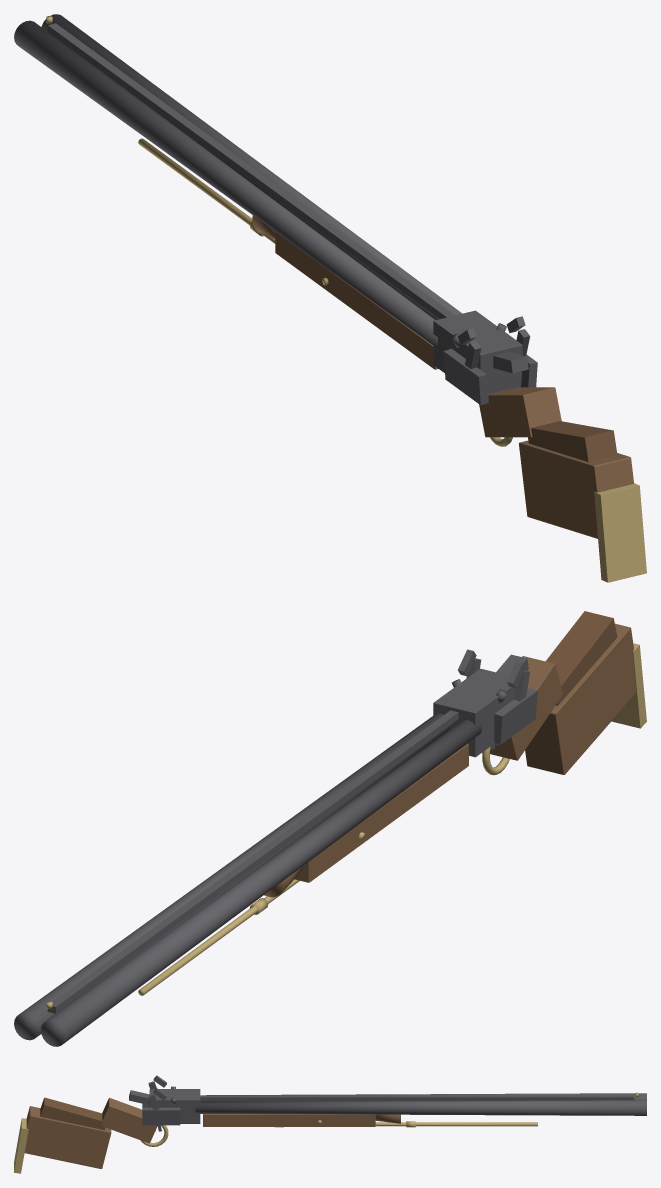
File: shotgun.glb
The picture shows the model from 3 angles, top to bottom: view 1: azimuth 30°, elevation 25°; view 2: azimuth 150°, elevation 25°; view 3: azimuth 270°, elevation 25°; orthographic projection. The views are drawn at different scales.
Visible parts, largest first — view 1: Cone, Cube.010, Cube, Cone.001, Cube.012, Cube.015, Cube.001, Cube.009, Cube.011, Cube.003, Cylinder.006; view 2: Cone, Cube.010, Cube, Cone.001, Cube.015, Cube.001, Cube.011, Cube.009, Cube.003, Cylinder.006, Cube.012; view 3: Cone.001, Cube.010, Cube, Cube.015, Cube.009, Cone, Cube.011, Cube.001, Cylinder.006, Cube.006, Cube.012, Cube.002 (+2 smaller).
Boxes of the visible parts, <box> form: Cone: <box>14,20,437,347</box>; Cube.010: <box>519,440,633,538</box>; Cube: <box>47,23,454,318</box>; Cone.001: <box>41,14,461,319</box>; Cube.012: <box>594,483,646,582</box>; Cube.015: <box>275,231,438,369</box>; Cube.001: <box>433,310,522,394</box>; Cube.009: <box>479,387,561,437</box>; Cube.011: <box>528,421,617,461</box>; Cube.003: <box>443,348,488,405</box>; Cylinder.006: <box>138,138,275,243</box>; Cone: <box>41,720,481,1046</box>; Cube.010: <box>525,623,636,774</box>; Cube: <box>47,710,458,1013</box>; Cone.001: <box>14,713,450,1040</box>; Cube.015: <box>295,743,468,882</box>; Cube.001: <box>433,668,515,757</box>; Cube.011: <box>545,611,617,705</box>; Cube.009: <box>490,656,563,760</box>; Cube.003: <box>494,688,537,744</box>; Cylinder.006: <box>138,879,299,995</box>; Cube.012: <box>611,643,646,728</box>; Cone.001: <box>195,1100,646,1115</box>; Cube.010: <box>24,1106,111,1168</box>; Cube: <box>200,1095,634,1100</box>; Cube.015: <box>203,1114,375,1126</box>; Cube.009: <box>100,1097,157,1143</box>; Cone: <box>200,1093,646,1102</box>; Cube.011: <box>40,1097,105,1129</box>; Cube.001: <box>149,1089,200,1123</box>; Cylinder.006: <box>375,1122,537,1126</box>; Cube.006: <box>142,1107,180,1125</box>; Cube.012: <box>14,1118,28,1173</box>; Cube.002: <box>129,1090,149,1104</box>.
Size of the model in its own units: 0.0723 by 0.1874 by 1.25.
